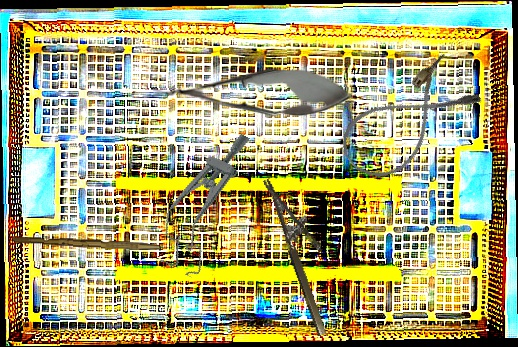Cannula: (330, 49, 486, 192)
Micro Scissor: (153, 67, 352, 119)
Needle Holder: (263, 170, 348, 337)
Scalpel Handle: (12, 235, 162, 251)
Speculum: (147, 120, 260, 280)
